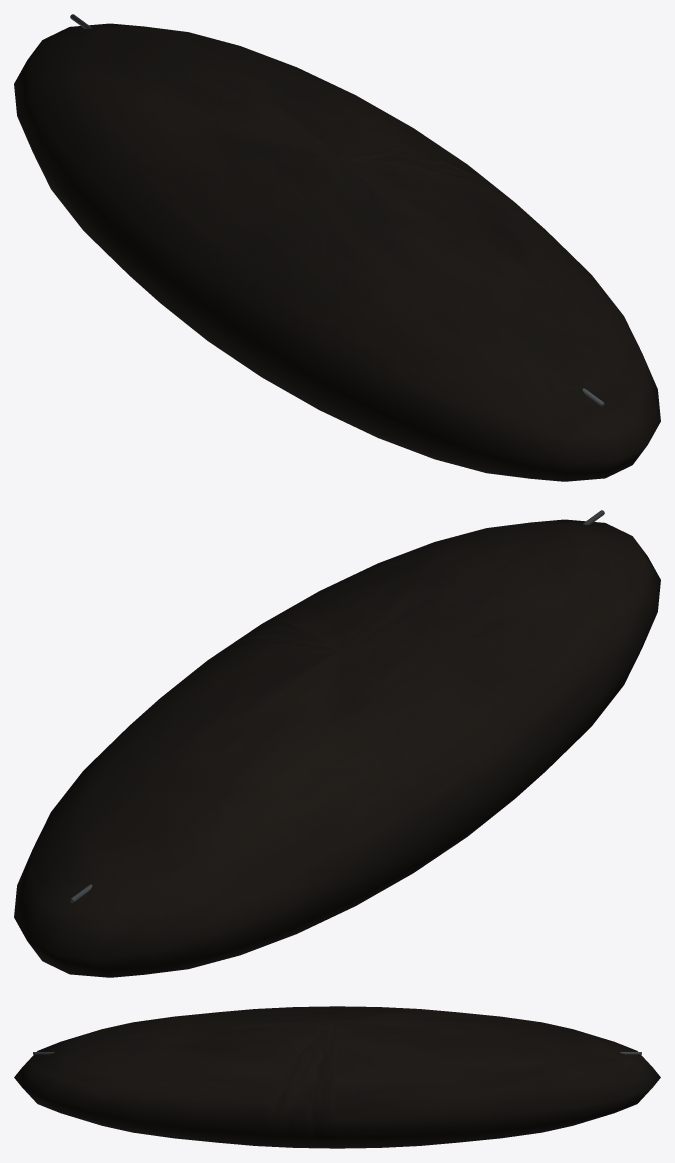
Rendered from body_bag.glb.
3 views of the same model, one above another, from view 1: azimuth 30°, elevation 25°; view 2: azimuth 150°, elevation 25°; view 3: azimuth 270°, elevation 25° (orthographic). The views are drawn at different scales.
Parts seen in each view (by area): view 1: Covered_remains; view 2: Covered_remains; view 3: Covered_remains.
Boxes of the visible parts, x1,y1,x2,y2 form: Covered_remains: [14, 23, 660, 481]; Covered_remains: [14, 519, 660, 977]; Covered_remains: [14, 1006, 660, 1148].
Bounding box in the file's own units: 0.56 × 0.32 × 1.7.
2 materials, 2 textured.
